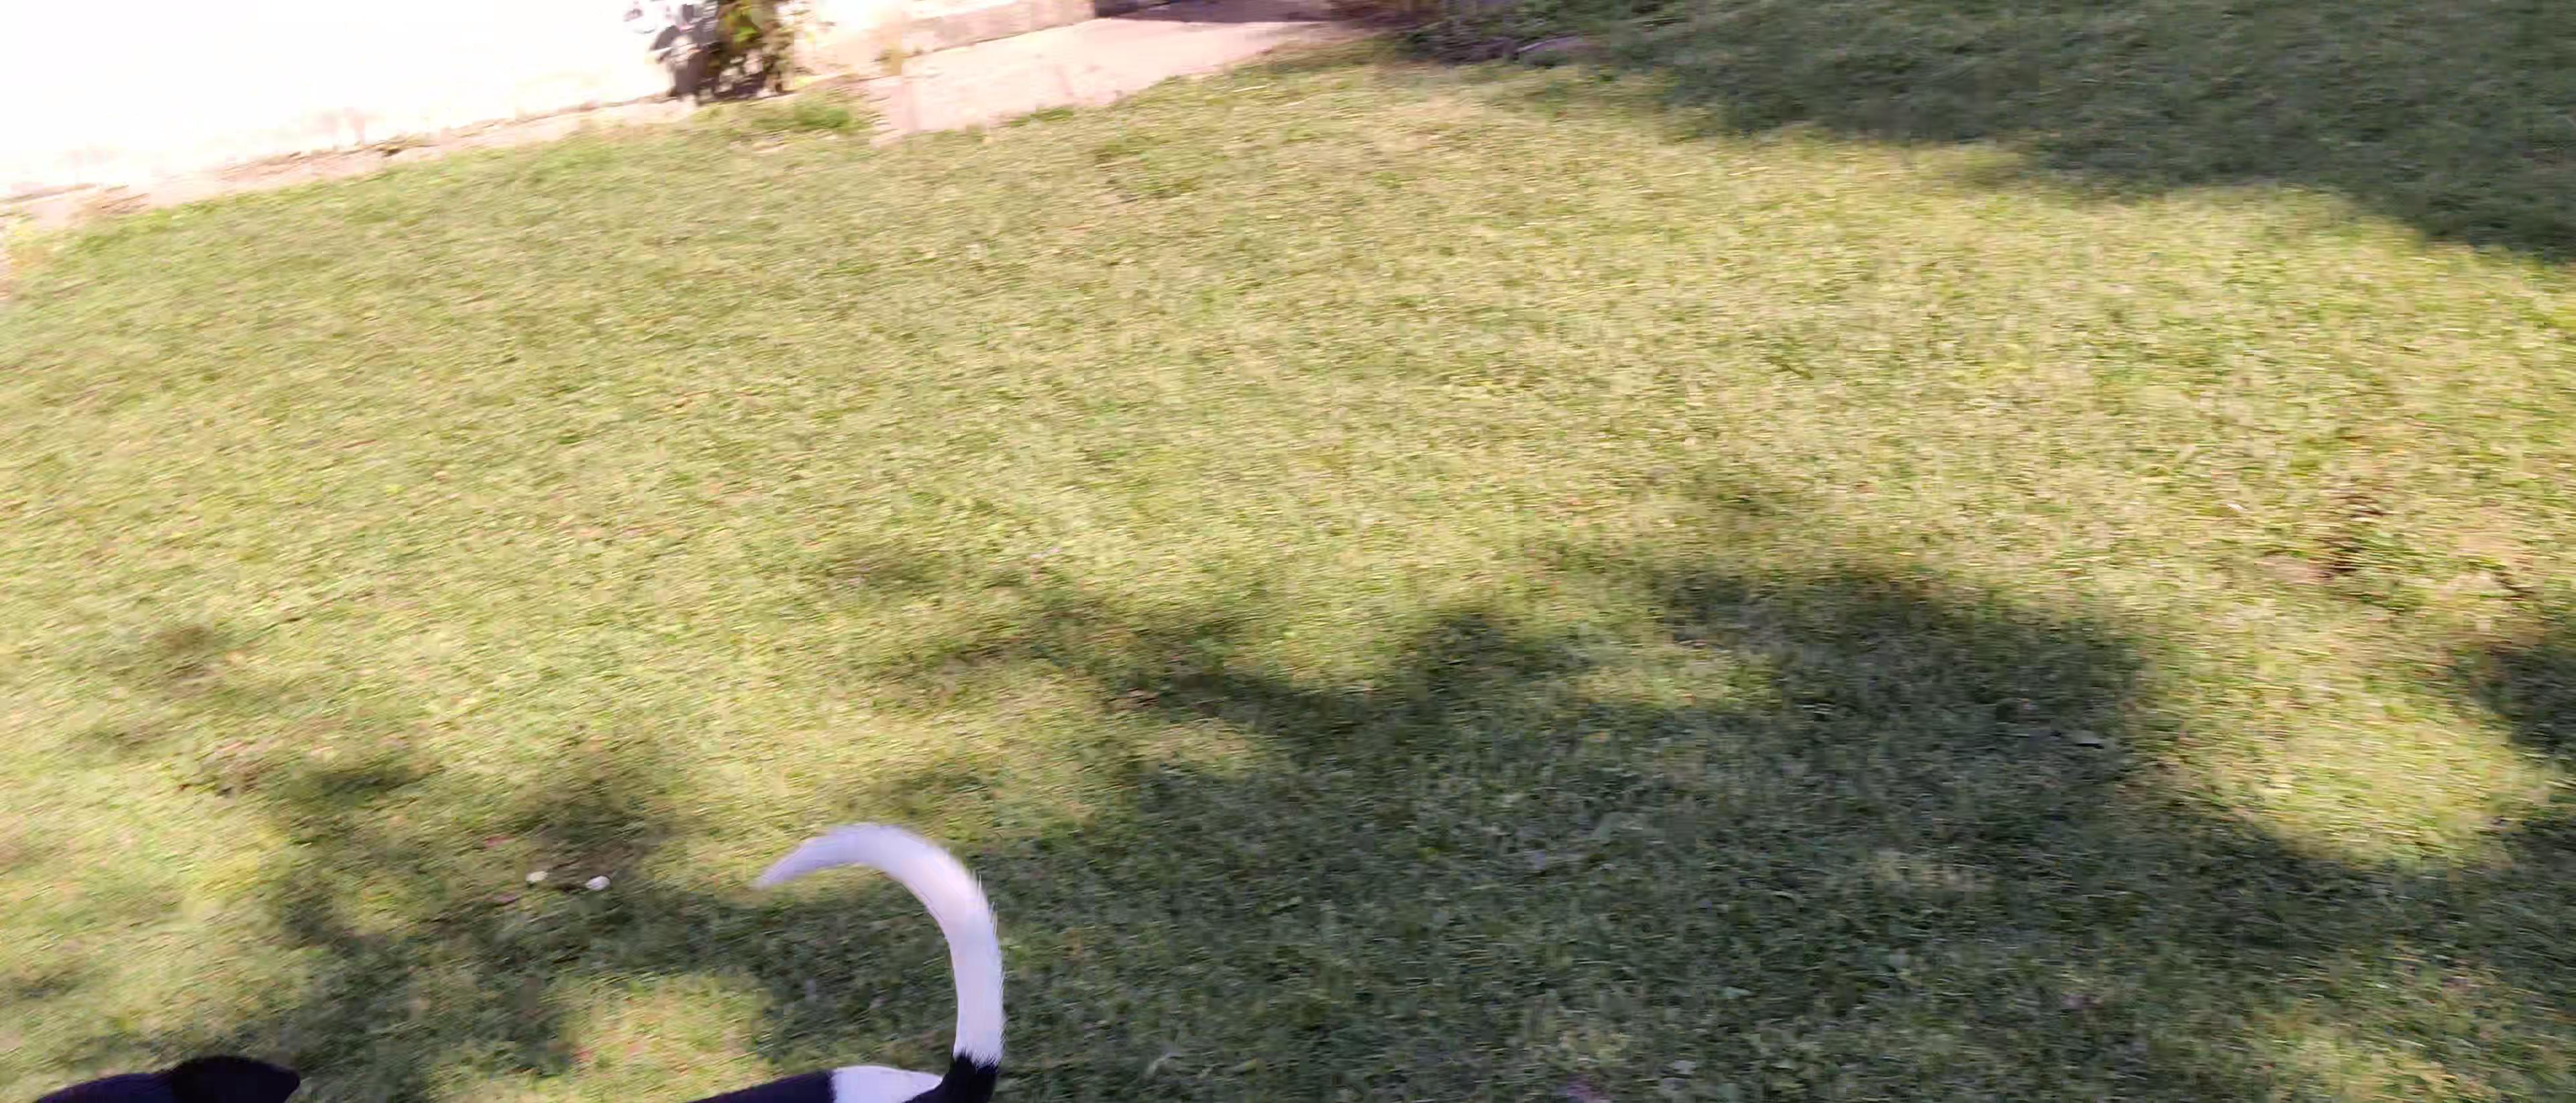Dog: (13, 805, 1027, 1103)
